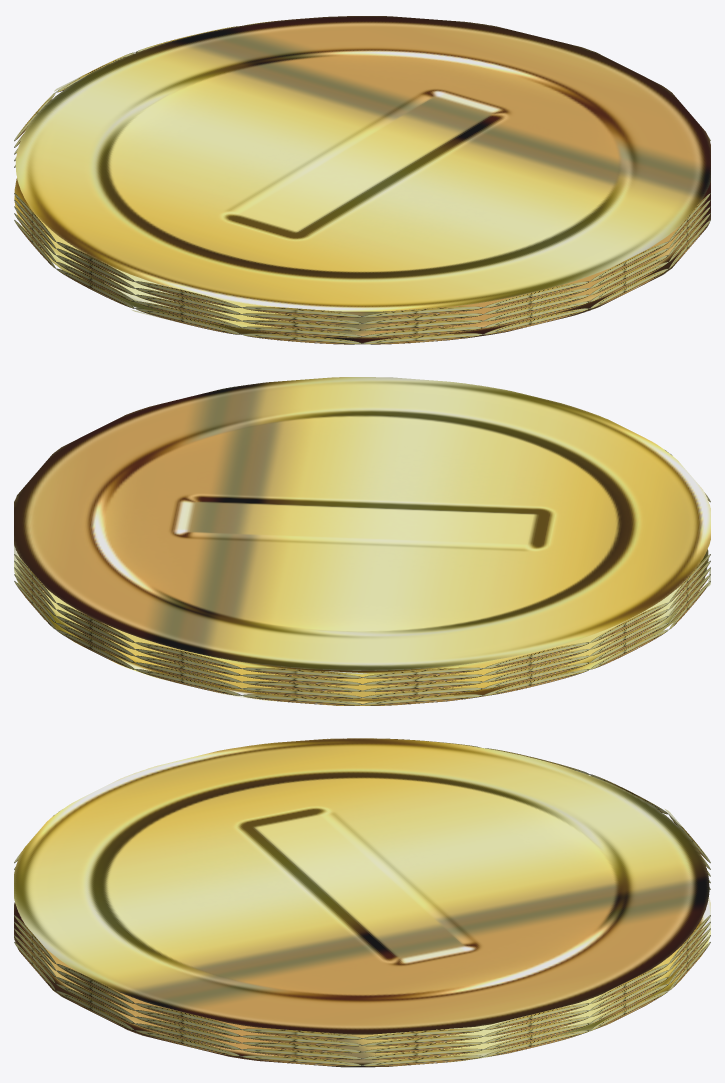
The model's file is Coin.fbx.
3 views of the same model, one above another, from view 1: azimuth 30°, elevation 25°; view 2: azimuth 150°, elevation 25°; view 3: azimuth 270°, elevation 25° (orthographic).
Parts seen in each view (by area): view 1: Cylinder001; view 2: Cylinder001; view 3: Cylinder001.
Boxes of the visible parts, <box> form: Cylinder001: <box>14,16,710,344</box>; Cylinder001: <box>14,377,710,705</box>; Cylinder001: <box>14,738,710,1067</box>.
Bounding box in the file's own units: 14.38 × 0.7509 × 14.17.
1 material, 1 textured.
